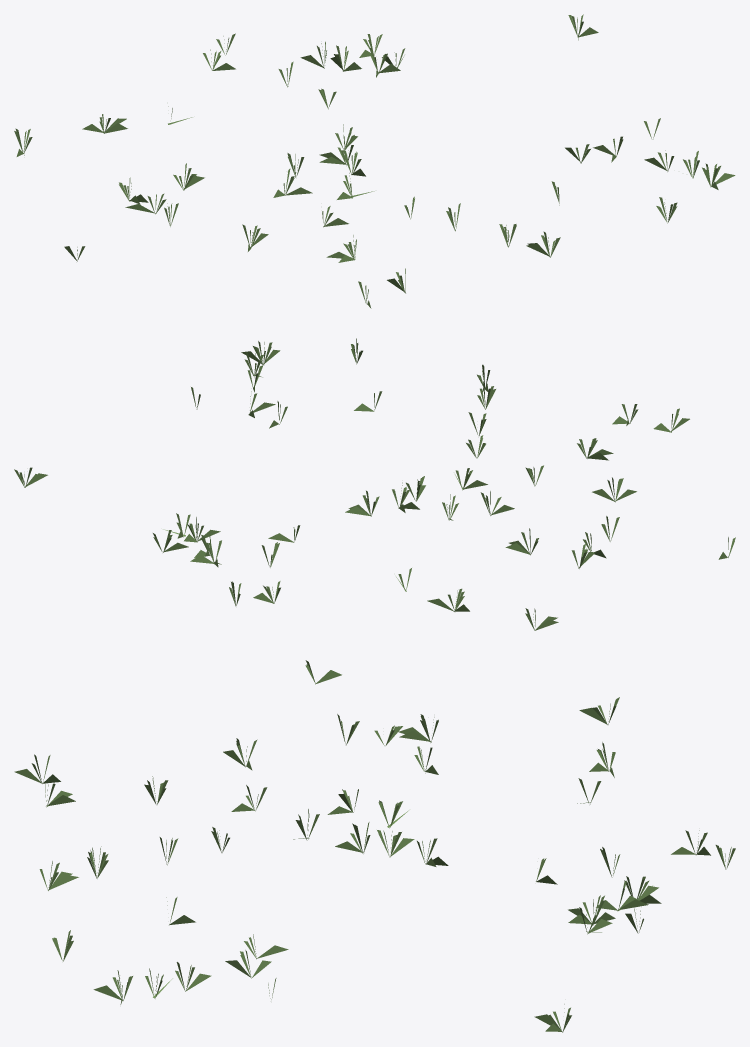
Rendered from teaching3-vegetation-18-far.glb.
3 renders of one model, top to bottom at view 1: azimuth 30°, elevation 25°; view 2: azimuth 150°, elevation 25°; view 3: azimuth 270°, elevation 25°, orthographic. The views are drawn at different scales.
Parts seen in each view (by area): view 1: mondo grass.001; view 2: mondo grass.001; view 3: mondo grass.001.
Boxes of the visible parts, x1,y1,x2,y2 form: mondo grass.001: [14, 14, 735, 308]; mondo grass.001: [14, 338, 735, 630]; mondo grass.001: [14, 660, 735, 1032].
Size of the model in its own units: 12.3 by 0.483 by 10.5.
